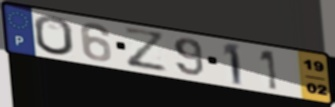1: (221, 43, 245, 87), (258, 49, 280, 92)
6: (78, 22, 113, 63)
9: (172, 37, 206, 78)
O: (31, 15, 76, 57)
Z: (121, 25, 170, 73)
